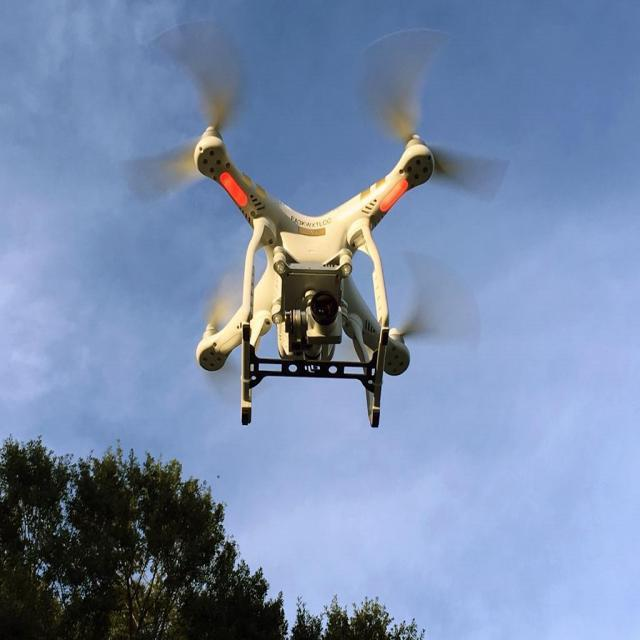UAV: (189, 112, 440, 431)
